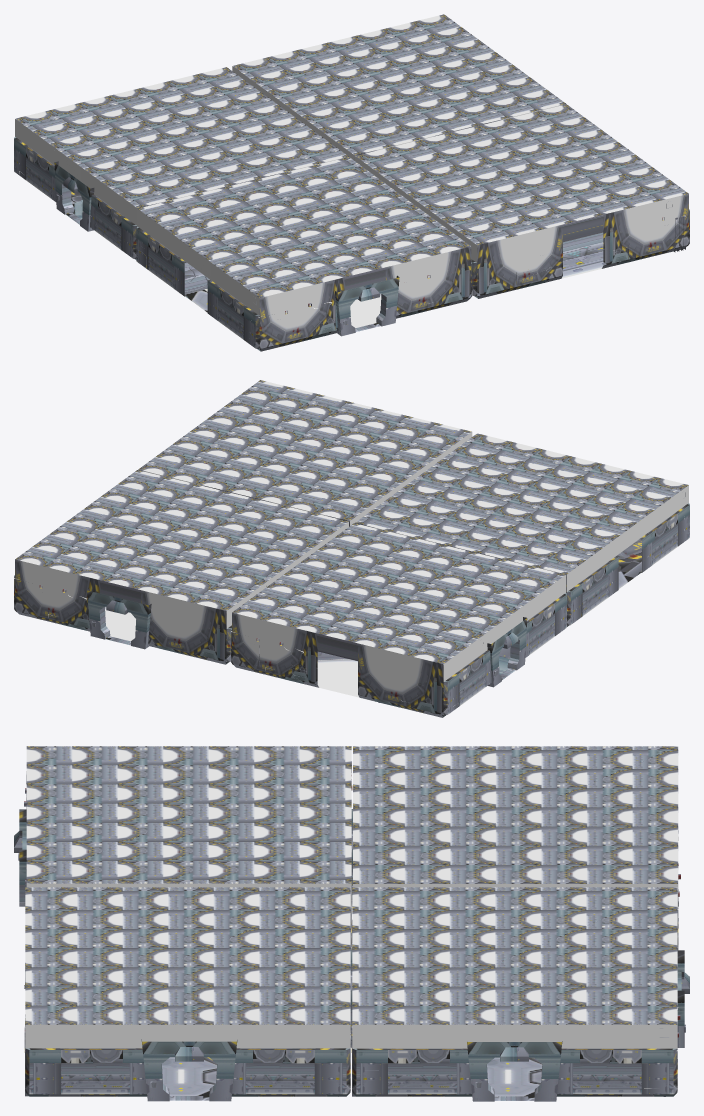
Rendered from Combined_Mesh_root_scene__9_f65a131e__ZombiesII_laboratory_07_d_a6872bb1_c1f257_part002.obj.
3 renders of one model, top to bottom at view 1: azimuth 30°, elevation 25°; view 2: azimuth 150°, elevation 25°; view 3: azimuth 270°, elevation 25°, orthographic. The views are drawn at different scales.
Bounding box in the file's own units: 83.99 × 10.21 × 83.14.
Materials: 233 (233 with a texture image).
